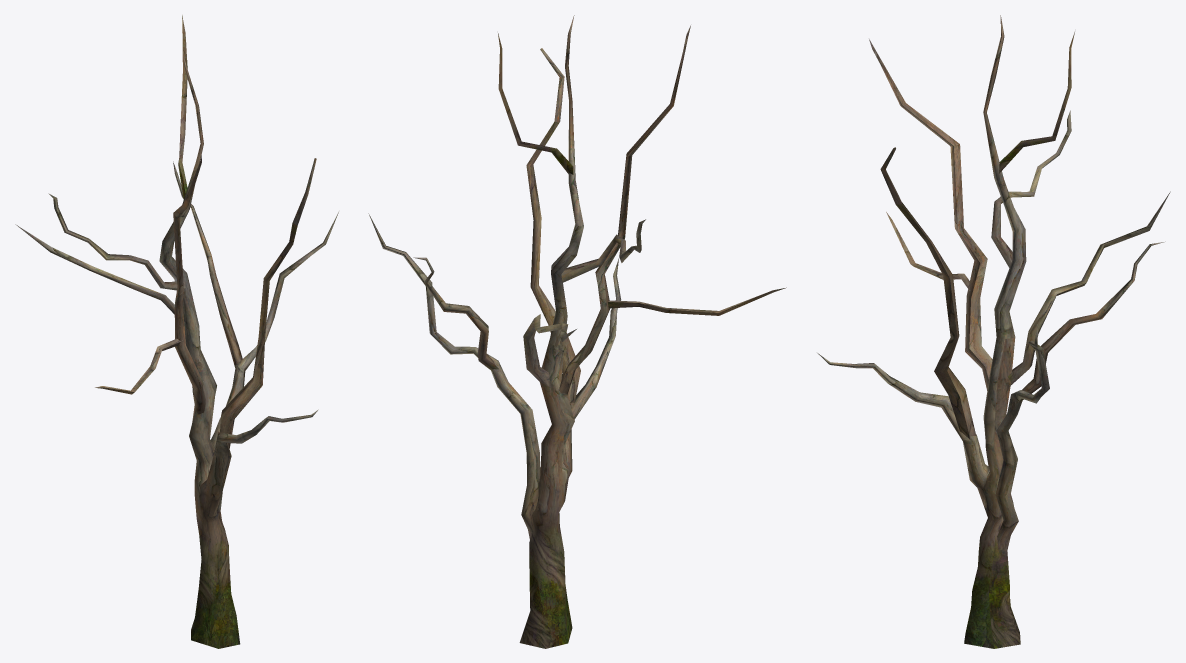
The model's file is shi_gan_05.FBX.
3 renders of one model, left to right at view 1: azimuth 30°, elevation 25°; view 2: azimuth 150°, elevation 25°; view 3: azimuth 270°, elevation 25°, orthographic. The views are drawn at different scales.
Visible parts, largest first — view 1: shi_gan_05; view 2: shi_gan_05; view 3: shi_gan_05.
Boxes of the visible parts, x1,y1,x2,y2 form: shi_gan_05: (15,15,338,648); shi_gan_05: (368,15,786,648); shi_gan_05: (817,15,1170,648).
Bounding box in the file's own units: 27.51 × 48.9 × 25.74.
